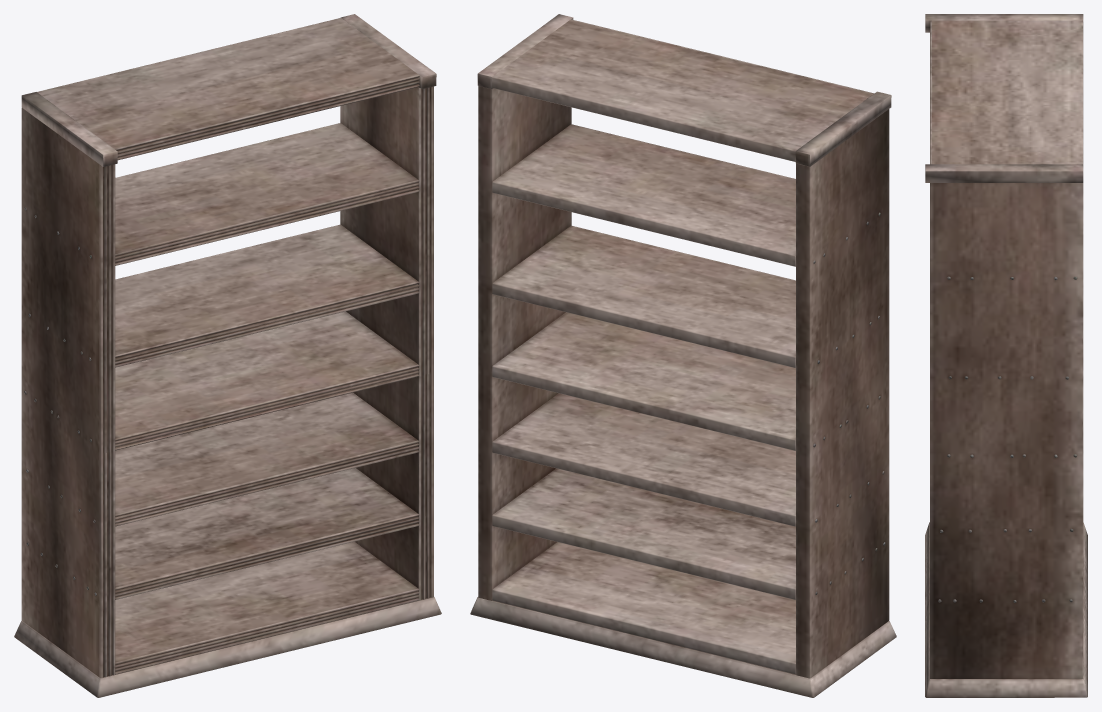
File: scene-bookshelf.glb
3 renders of one model, left to right at view 1: azimuth 30°, elevation 25°; view 2: azimuth 150°, elevation 25°; view 3: azimuth 270°, elevation 25°, orthographic. The views are drawn at different scales.
Parts seen in each view (by area): view 1: wooden_bookshelf_worn; view 2: wooden_bookshelf_worn; view 3: wooden_bookshelf_worn.
Part boxes in pixels (bbox=[...]): wooden_bookshelf_worn: bbox=[14, 14, 441, 697]; wooden_bookshelf_worn: bbox=[470, 14, 896, 697]; wooden_bookshelf_worn: bbox=[925, 14, 1087, 697].
Size of the model in its own units: 1.37 by 2.06 by 0.5814.
Materials: 1 (1 with a texture image).
